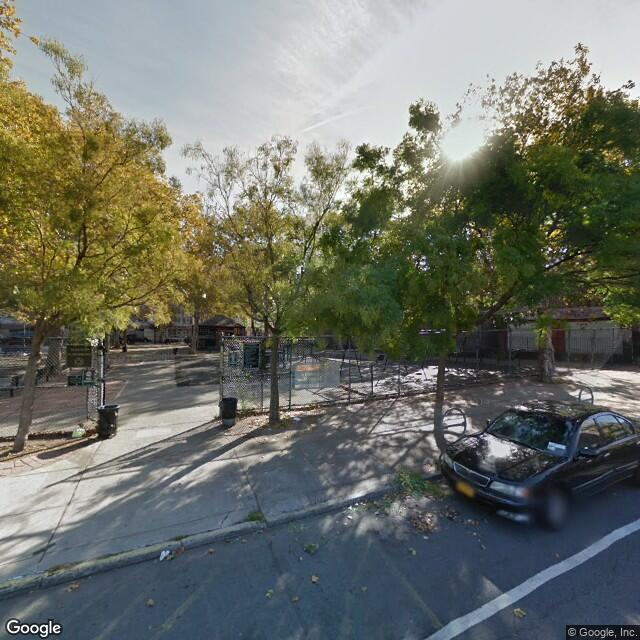litter: (158, 552, 171, 559), (294, 415, 300, 419)
